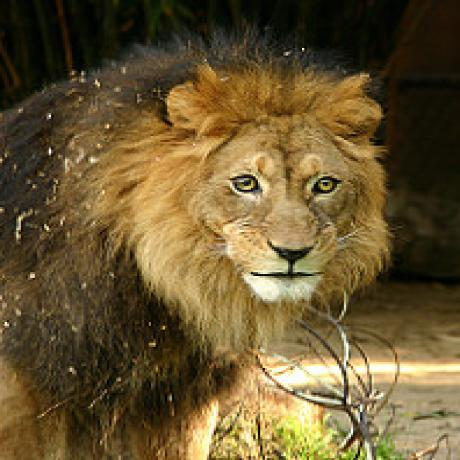Lion: (0, 42, 393, 460)
